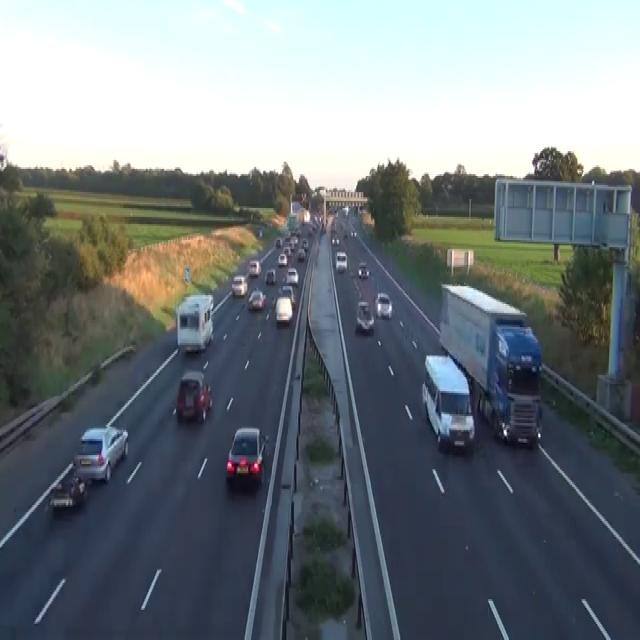Car: (72, 425, 128, 483), (225, 427, 269, 487), (175, 370, 212, 423), (49, 475, 86, 510), (355, 300, 374, 332), (274, 295, 293, 324), (374, 292, 392, 318), (278, 284, 296, 310), (231, 274, 247, 297), (247, 290, 266, 309), (335, 251, 347, 272), (357, 260, 369, 278), (286, 266, 298, 284), (248, 260, 261, 276), (265, 268, 276, 282), (277, 252, 287, 266), (0, 151, 7, 171), (297, 247, 305, 261), (290, 235, 298, 249), (283, 245, 291, 258), (301, 238, 308, 249), (331, 234, 339, 243), (276, 237, 282, 247), (294, 226, 301, 234), (343, 205, 348, 215), (307, 226, 312, 236), (350, 230, 356, 237), (343, 230, 348, 237), (258, 230, 262, 237)
Truck: (439, 281, 543, 448), (421, 354, 475, 452), (175, 293, 214, 354)
